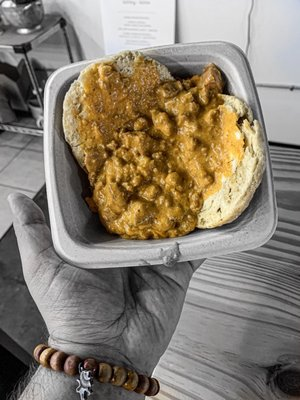sandwich: (63, 51, 267, 241)
